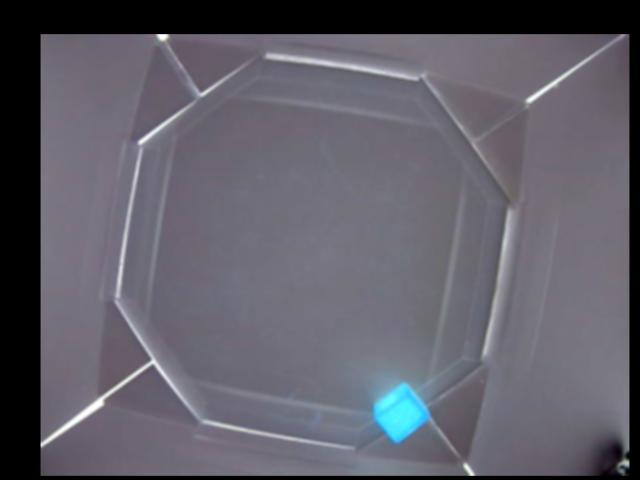Carrot: (371, 381, 427, 444)
